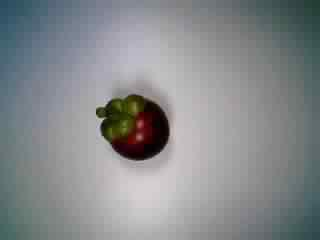mangosteen: (89, 86, 173, 167)
